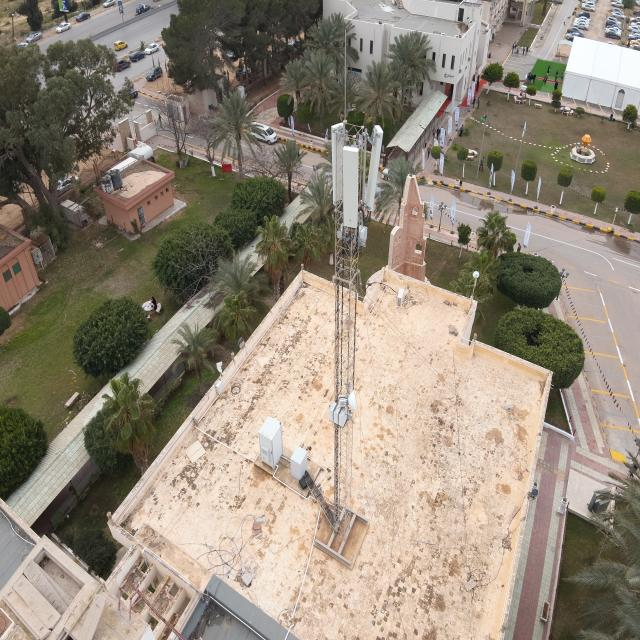antenna: (365, 125, 384, 211), (330, 121, 348, 206), (342, 144, 358, 228)
lighnig-rad: (344, 30, 347, 121)
microware-dish: (339, 389, 358, 412)
power-box: (329, 401, 350, 428)
radio-unit: (339, 218, 370, 246)
